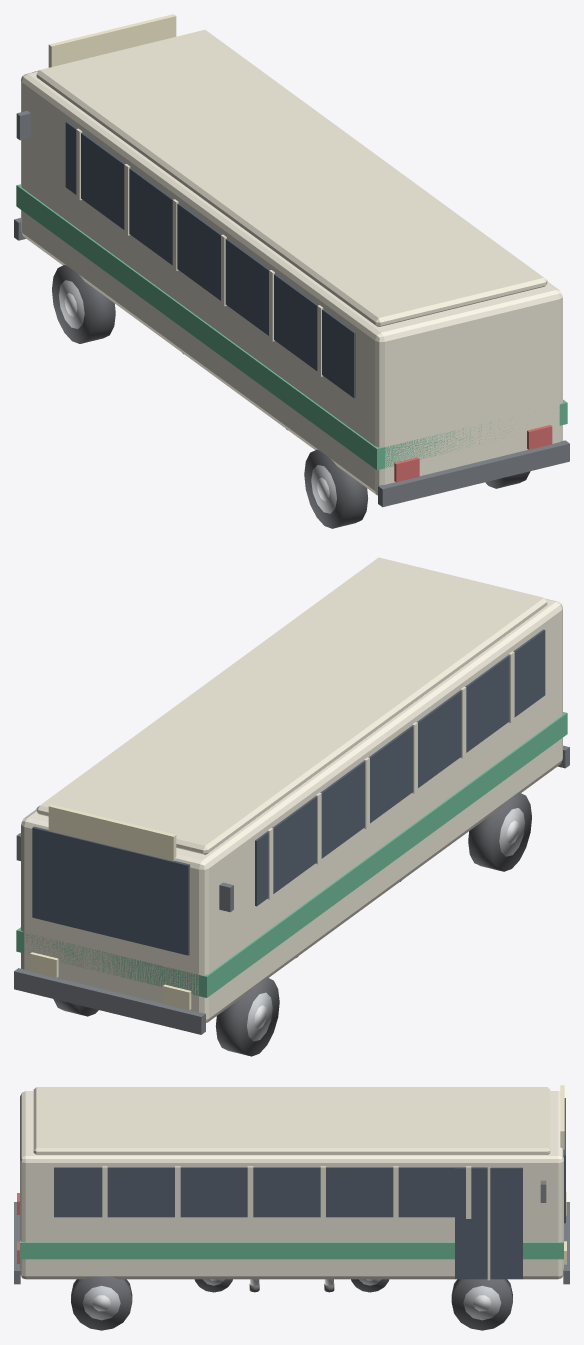
Rendered from props.glb.
3 renders of one model, top to bottom at view 1: azimuth 30°, elevation 25°; view 2: azimuth 150°, elevation 25°; view 3: azimuth 270°, elevation 25°, orthographic. The views are drawn at different scales.
Visible parts, largest first — view 1: bus; view 2: bus; view 3: bus, truck.
Part boxes in pixels (x1,y1,x2,y2): bus: (14, 14, 569, 528); bus: (14, 557, 569, 1056); bus: (14, 1085, 569, 1330); truck: (194, 1279, 389, 1292).
Size of the model in its own units: 2.74 by 3.05 by 8.18.
